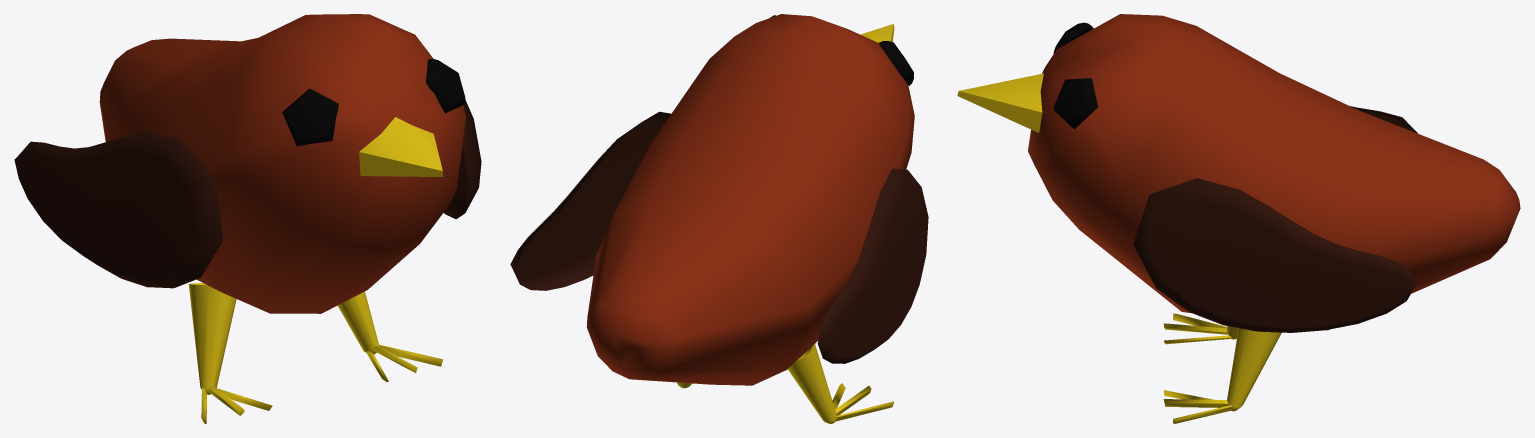
The model's file is bird 3 (vertex).fbx.
3 views of the same model, side by side, from view 1: azimuth 30°, elevation 25°; view 2: azimuth 150°, elevation 25°; view 3: azimuth 270°, elevation 25° (orthographic). The views are drawn at different scales.
Visible parts, largest first — view 1: bird3; view 2: bird3; view 3: bird3.
Boxes of the visible parts, x1,y1,x2,y2 form: bird3: (14, 14, 481, 423); bird3: (510, 14, 928, 423); bird3: (957, 14, 1520, 423).
Size of the model in its own units: 27.82 by 28.69 by 41.62.
